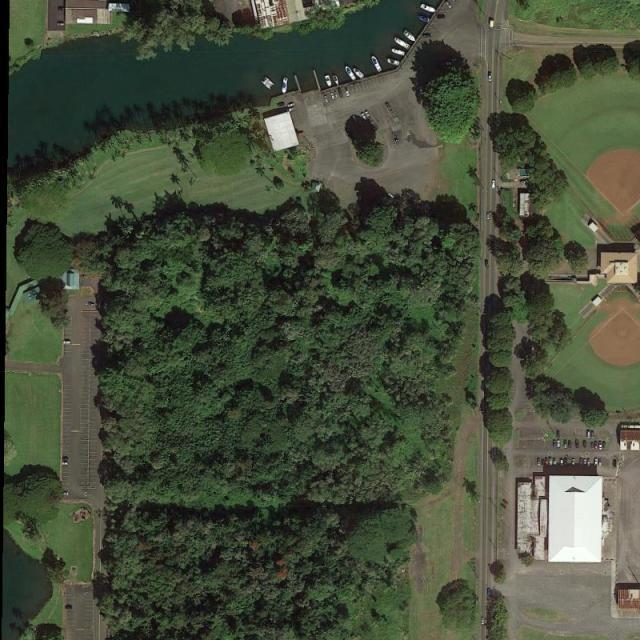vehicle: (385, 102, 394, 112), (445, 1, 453, 10), (387, 192, 395, 200), (361, 113, 368, 121), (365, 110, 372, 118), (490, 19, 495, 30), (324, 95, 330, 104), (58, 7, 68, 12), (485, 259, 490, 269), (594, 458, 599, 468), (579, 458, 584, 468), (598, 440, 603, 450), (287, 108, 297, 113), (288, 102, 295, 109), (438, 14, 446, 20), (330, 92, 336, 100), (491, 180, 496, 189), (594, 441, 599, 450), (575, 439, 580, 448), (553, 440, 558, 449), (487, 588, 492, 597), (338, 89, 343, 98), (488, 71, 492, 82), (583, 458, 587, 469), (486, 213, 491, 221), (560, 459, 565, 467), (553, 458, 558, 466), (591, 430, 596, 438), (556, 430, 561, 438), (87, 301, 95, 306), (58, 22, 66, 27), (422, 34, 431, 38), (572, 458, 576, 467), (564, 458, 568, 467), (568, 440, 572, 449), (545, 457, 549, 466), (564, 440, 568, 449), (481, 617, 485, 626), (352, 116, 358, 122), (345, 90, 350, 97), (66, 605, 73, 610), (62, 341, 73, 344), (613, 459, 617, 467), (549, 458, 553, 466), (537, 458, 541, 466), (590, 442, 594, 450), (587, 430, 591, 438), (62, 462, 70, 466), (62, 492, 70, 496), (587, 458, 590, 468), (583, 440, 587, 447), (557, 441, 561, 448), (334, 91, 338, 98), (599, 458, 602, 467), (542, 458, 545, 467), (603, 442, 606, 450)
